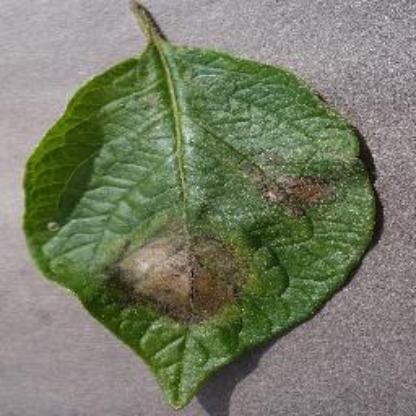Late-Blight: (23, 24, 395, 400)
